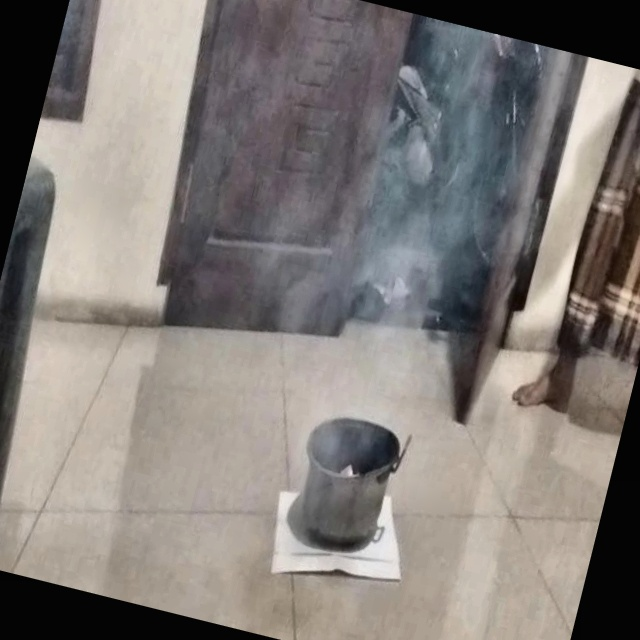smoke: (286, 114, 462, 387)
